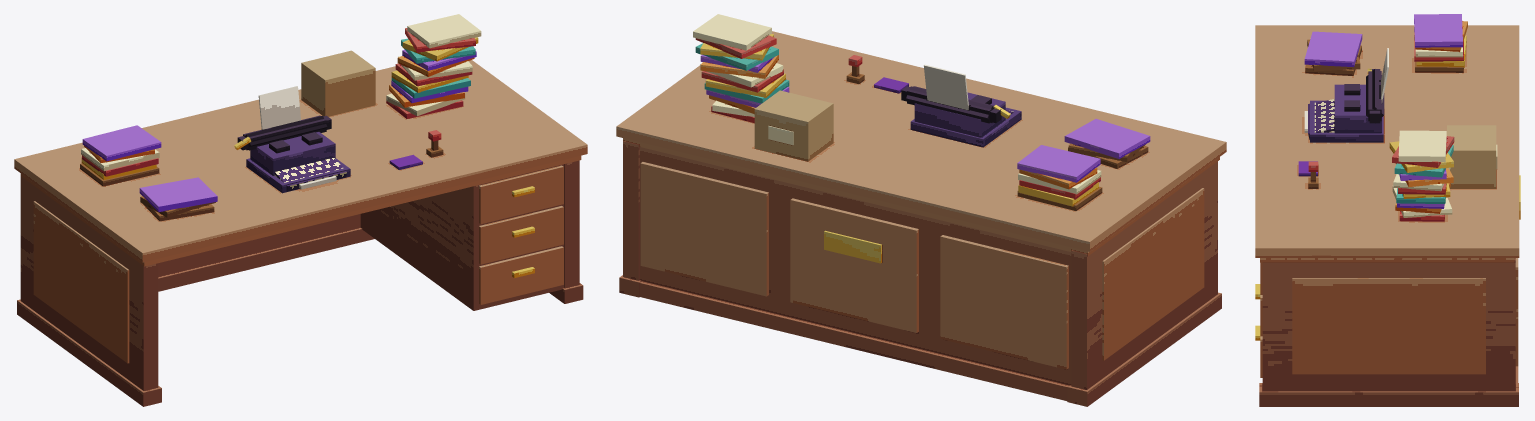
File: clerk_desk.gltf
3 renders of one model, left to right at view 1: azimuth 30°, elevation 25°; view 2: azimuth 150°, elevation 25°; view 3: azimuth 270°, elevation 25°, orthographic. The views are drawn at different scales.
Visible parts, largest first — view 1: top, pedestal, side_inset_left, side_panel_left, file_box_carton, plinth_front, drawer1, drawer3, drawer2, front_panel, top_mould, plinth_side_left (+15 smaller); view 2: top, front_panel, front_inset1, front_inset3, front_inset2, side_inset_left, side_panel_left, plinth_front, file_box_carton, top_mould, plinth_side_left, side_panel_right (+15 smaller); view 3: top, side_inset_right, side_panel_right, plinth_side_right, file_box_carton, file_c3_purple, file_a6_purple, file_b14_cream, tw_body, top_mould, tw_base, tw_keys (+20 smaller).
Boxes of the visible parts, x1=… form: top: x1=14, y1=60, x2=587, y2=262; pedestal: x1=360, y1=164, x2=564, y2=310; side_inset_left: x1=33, y1=201, x2=129, y2=363; side_panel_left: x1=20, y1=176, x2=158, y2=390; file_box_carton: x1=301, y1=50, x2=375, y2=116; plinth_front: x1=158, y1=227, x2=374, y2=291; drawer1: x1=479, y1=246, x2=563, y2=304; drawer3: x1=479, y1=165, x2=563, y2=224; drawer2: x1=479, y1=206, x2=563, y2=264; front_panel: x1=158, y1=214, x2=360, y2=276; top_mould: x1=20, y1=155, x2=581, y2=266; plinth_side_left: x1=17, y1=299, x2=161, y2=406; top: x1=616, y1=31, x2=1226, y2=251; front_panel: x1=639, y1=147, x2=1071, y2=385; front_inset1: x1=940, y1=235, x2=1068, y2=369; front_inset3: x1=640, y1=162, x2=768, y2=296; front_inset2: x1=790, y1=198, x2=918, y2=332; side_inset_left: x1=1102, y1=188, x2=1204, y2=360; side_panel_left: x1=1071, y1=161, x2=1217, y2=389; plinth_front: x1=639, y1=281, x2=1069, y2=400; file_box_carton: x1=754, y1=90, x2=833, y2=161; top_mould: x1=623, y1=138, x2=1219, y2=255; plinth_side_left: x1=1067, y1=292, x2=1221, y2=406; side_panel_right: x1=623, y1=141, x2=639, y2=280; top: x1=1255, y1=25, x2=1519, y2=257; side_inset_right: x1=1292, y1=278, x2=1485, y2=374; side_panel_right: x1=1262, y1=258, x2=1515, y2=391; plinth_side_right: x1=1259, y1=383, x2=1518, y2=406; file_box_carton: x1=1447, y1=125, x2=1496, y2=188; file_c3_purple: x1=1304, y1=31, x2=1362, y2=67; file_a6_purple: x1=1414, y1=14, x2=1462, y2=47; file_b14_cream: x1=1398, y1=130, x2=1446, y2=162; tw_body: x1=1334, y1=84, x2=1381, y2=133; top_mould: x1=1260, y1=258, x2=1514, y2=262; tw_base: x1=1310, y1=100, x2=1383, y2=142; tw_keys: x1=1308, y1=99, x2=1334, y2=139.
Bounding box in the file's own units: 3 × 1.47 × 1.51.
3 materials, 3 textured.
